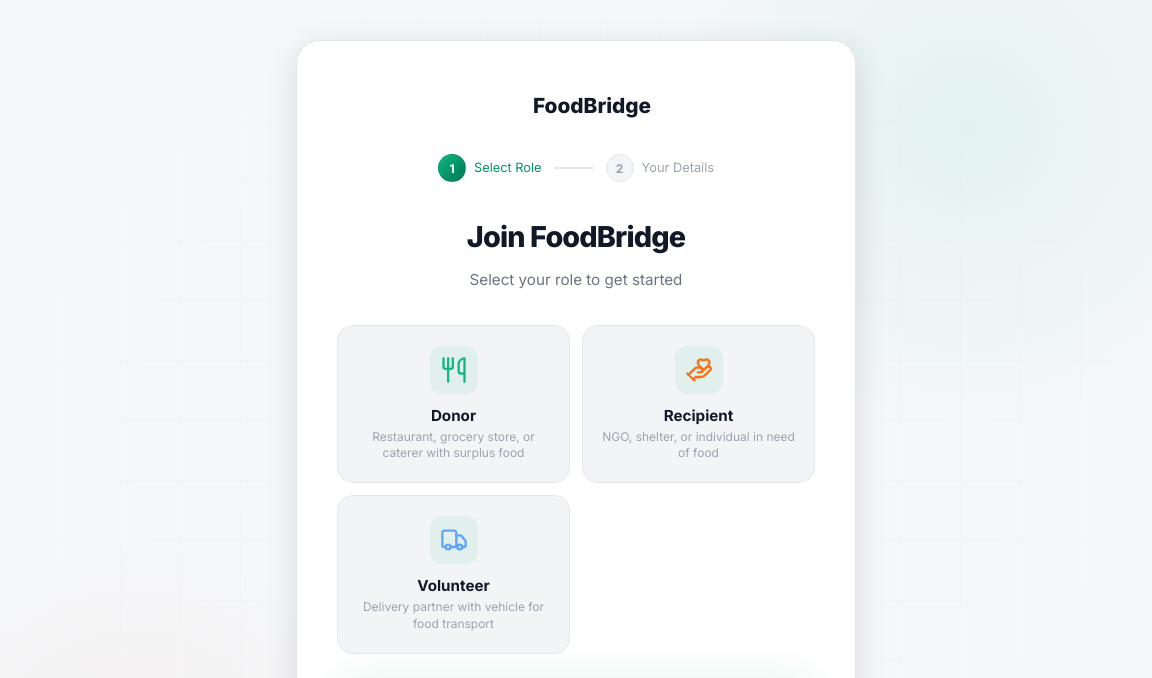
Scenario: Register page — Step 2 (form inputs) › Back button navigates back to step 1
Click the button "Volunteer Delivery partner with vehicle for food transport": (454, 574) [337,495,570,654]
(page scrolled)
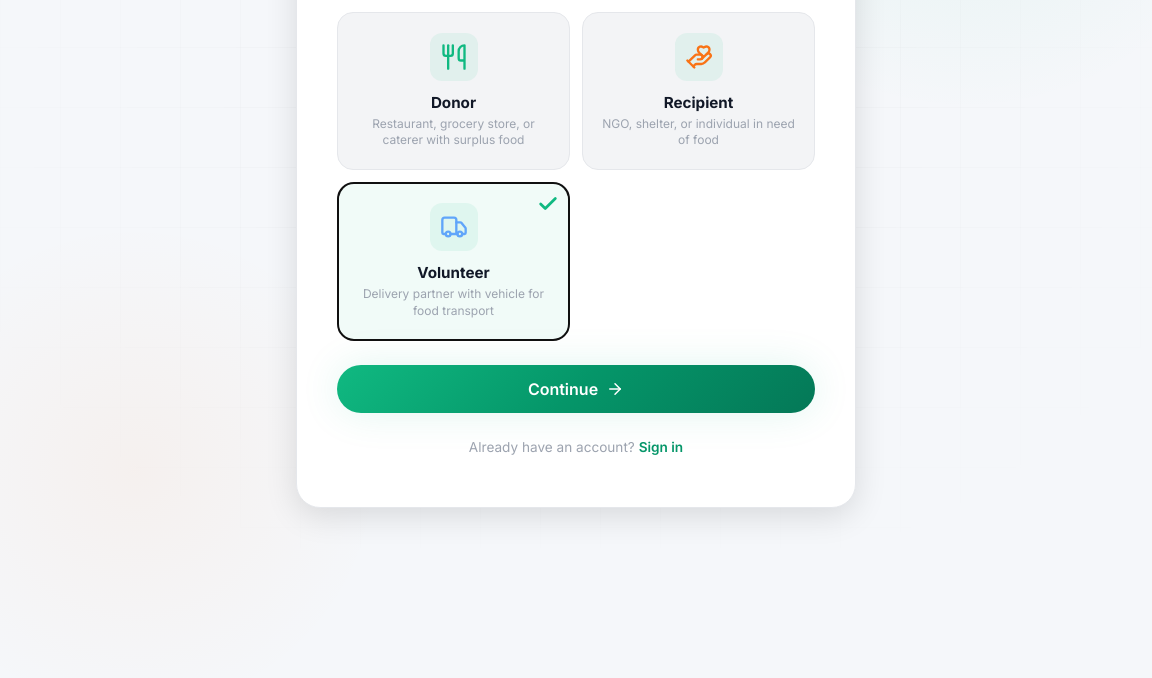
Click the button "Continue": (576, 389) [337,365,815,413]
(page scrolled)
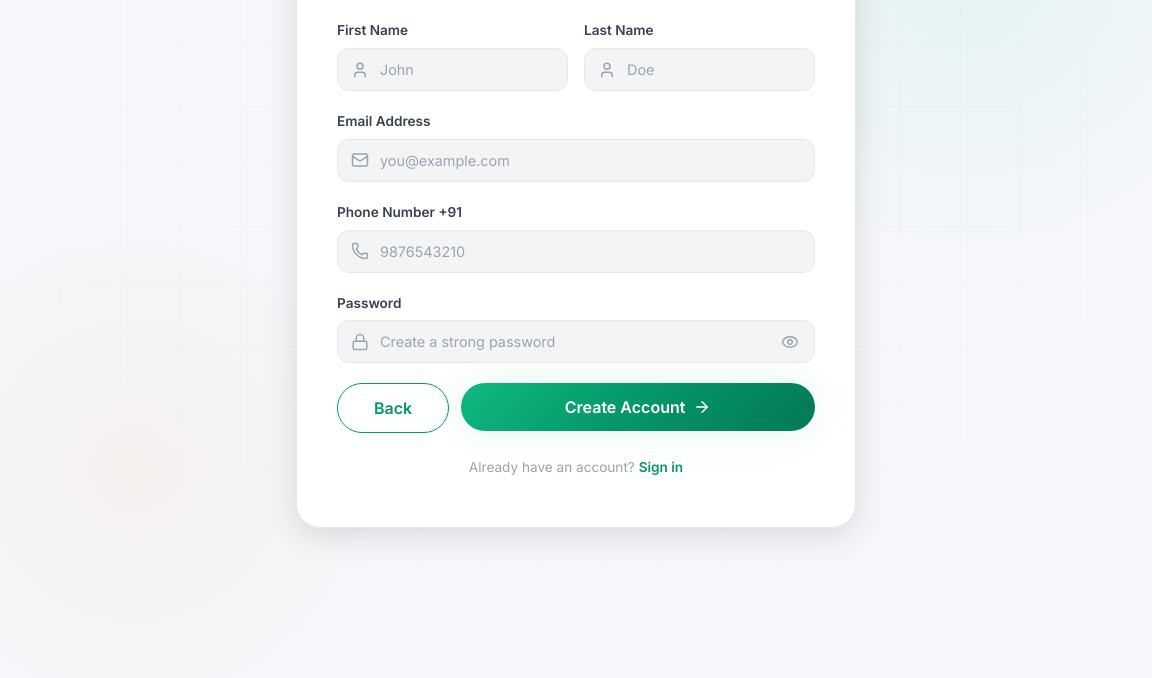
Click the button "Back": (393, 408) [337,383,449,433]
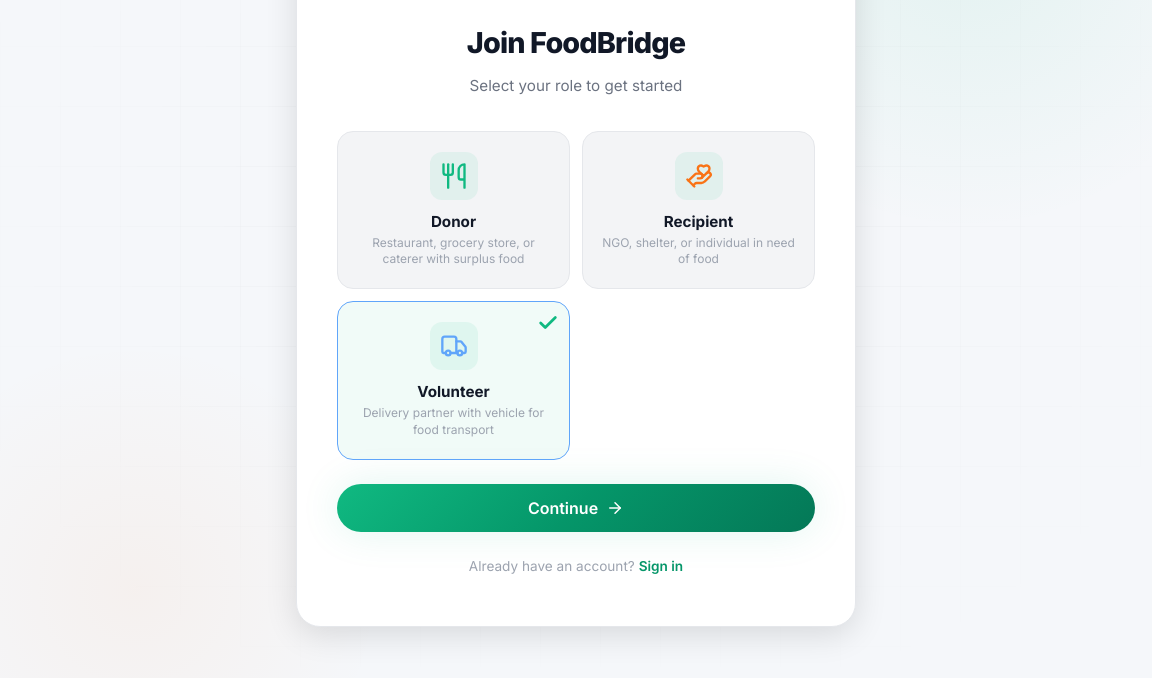
Expected: the text "Select your role to get started" is shown, [470,76,682,95]
